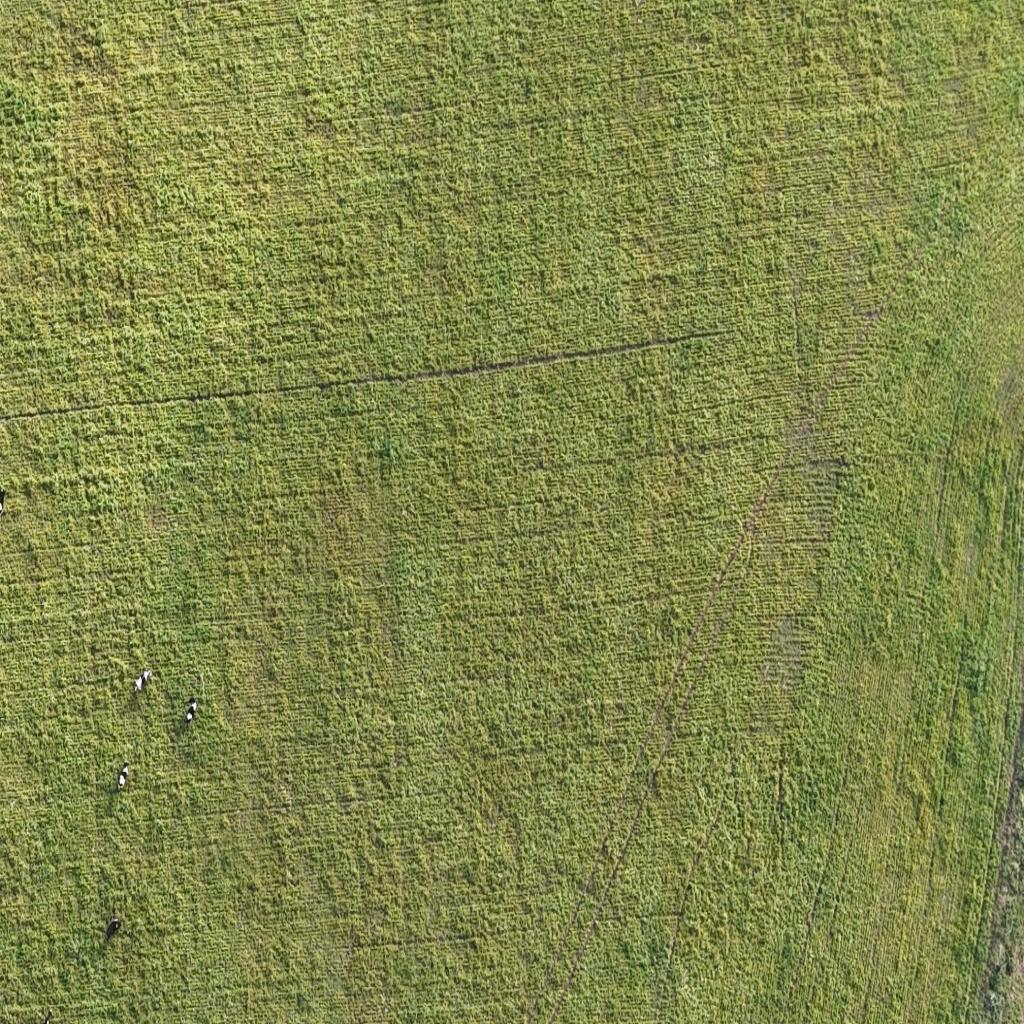cow: (104, 916, 122, 942), (136, 670, 152, 694), (184, 697, 198, 722), (118, 763, 130, 789)
